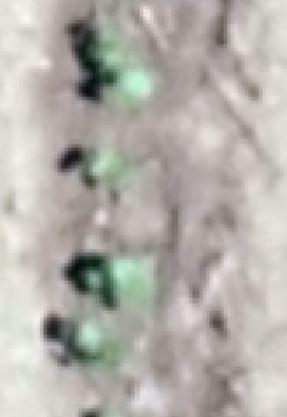cotton: (104, 261, 149, 300), (108, 55, 147, 95), (74, 326, 110, 357), (84, 158, 127, 182), (97, 28, 127, 61), (99, 87, 134, 106), (84, 271, 109, 290)
